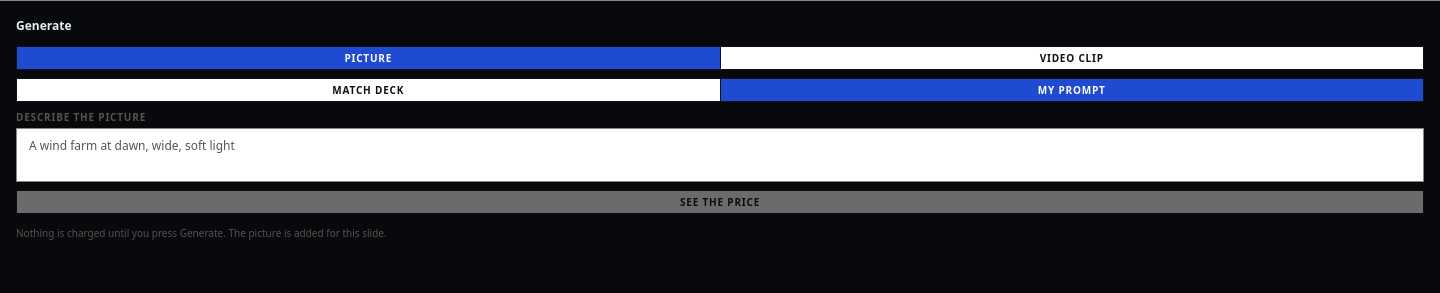
Test: asks the price for this exact description, then generates only on confirm
Type "A wind farm at dawn" into the text box with test id "generate-prompt". click: {"x": 720, "y": 155}
box: [16, 128, 1424, 182]
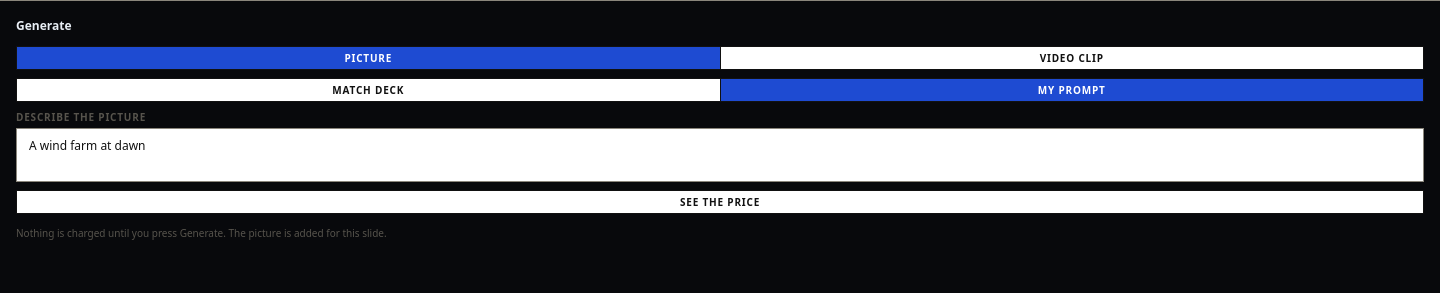
Click the button with test id "generate-price-check". click: {"x": 720, "y": 202}
box: [16, 190, 1424, 214]
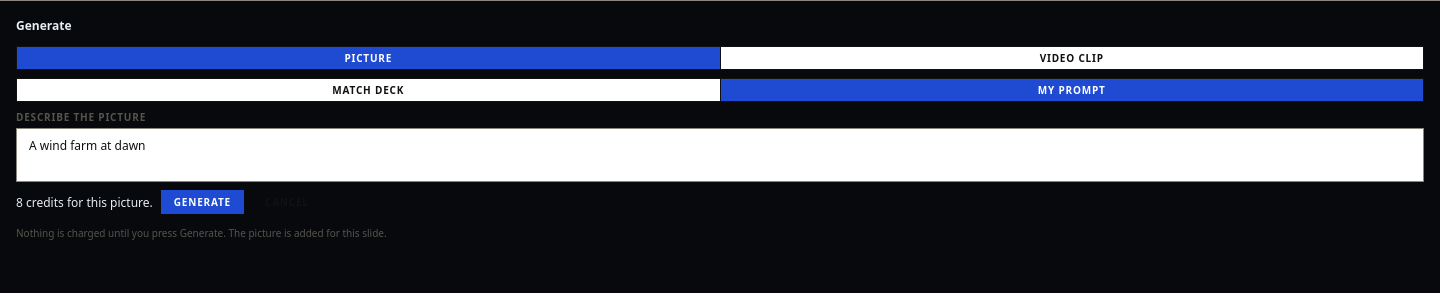
Expected: the text with test id "generate-price" shows "8 credits", [16, 194, 153, 210]
Click the button with test id "generate-confirm". click: {"x": 202, "y": 202}
box: [161, 190, 244, 214]
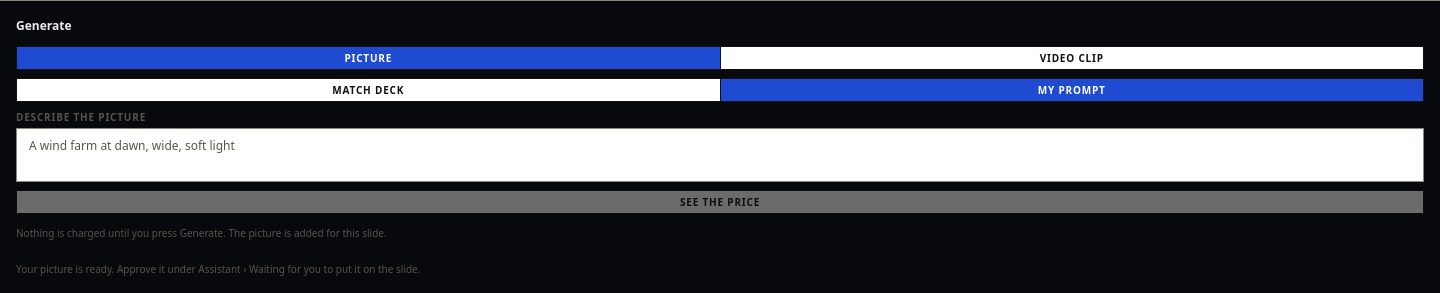
Expected: the message with test id "generate-done" shows "Waiting for you", [16, 262, 420, 276]
